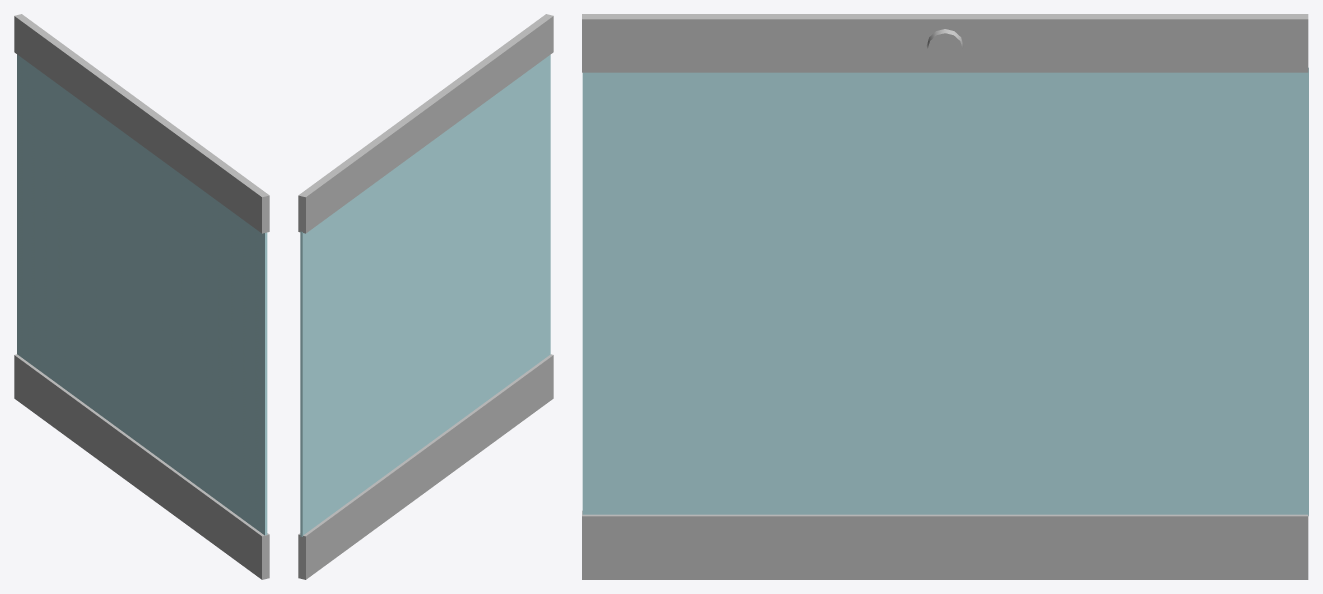
The model's file is SM_Jukebox_01c.fbx.
3 views of the same model, side by side, from view 1: azimuth 30°, elevation 25°; view 2: azimuth 150°, elevation 25°; view 3: azimuth 270°, elevation 25° (orthographic). The views are drawn at different scales.
Parts seen in each view (by area): view 1: SM_Jukebox_01c; view 2: SM_Jukebox_01c; view 3: SM_Jukebox_01c.
Boxes of the visible parts, x1,y1,x2,y2 form: SM_Jukebox_01c: (14, 14, 269, 579); SM_Jukebox_01c: (298, 14, 553, 579); SM_Jukebox_01c: (582, 14, 1308, 579).
Bounding box in the file's own units: 1.31 × 38.91 × 45.73.
